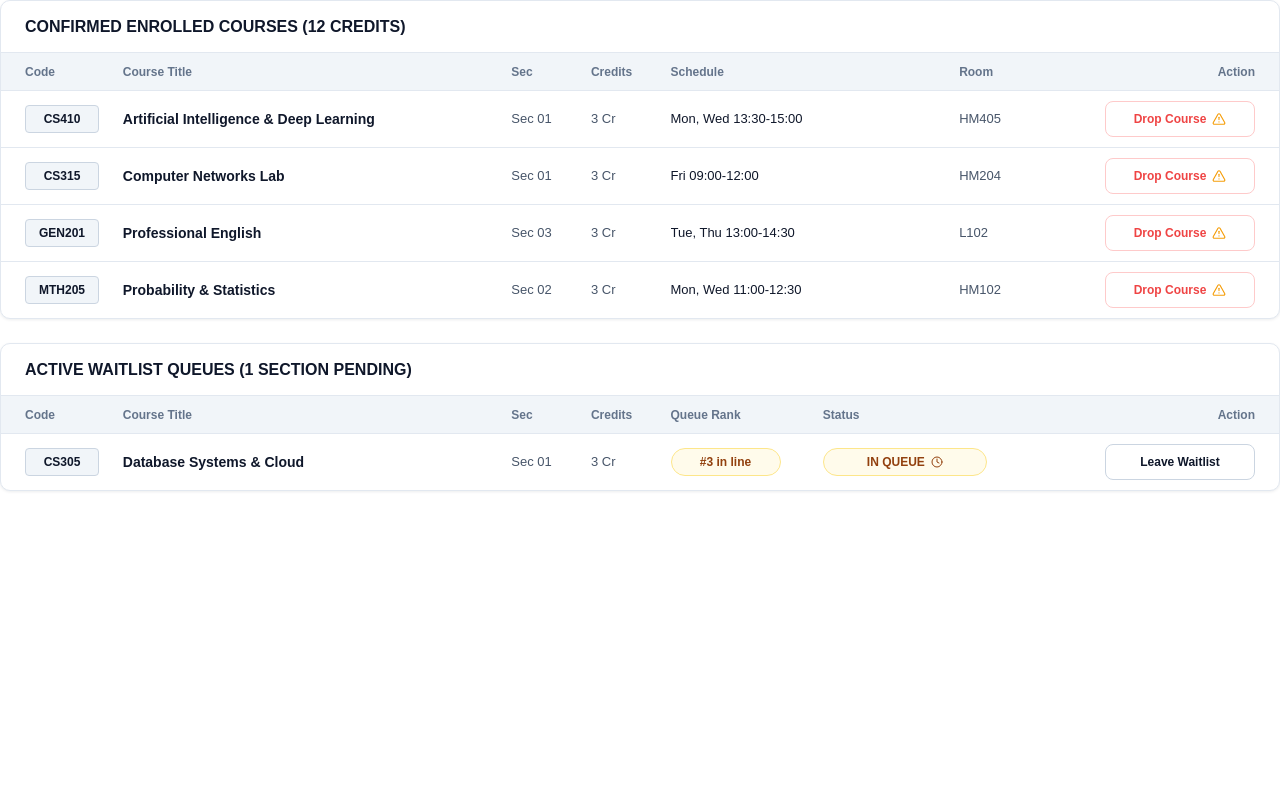
Test: RegisteredPage › leaves the waitlist after confirming
Step 1. Click the button "Leave Waitlist" → click(1180, 462), box [1105,444,1255,480]
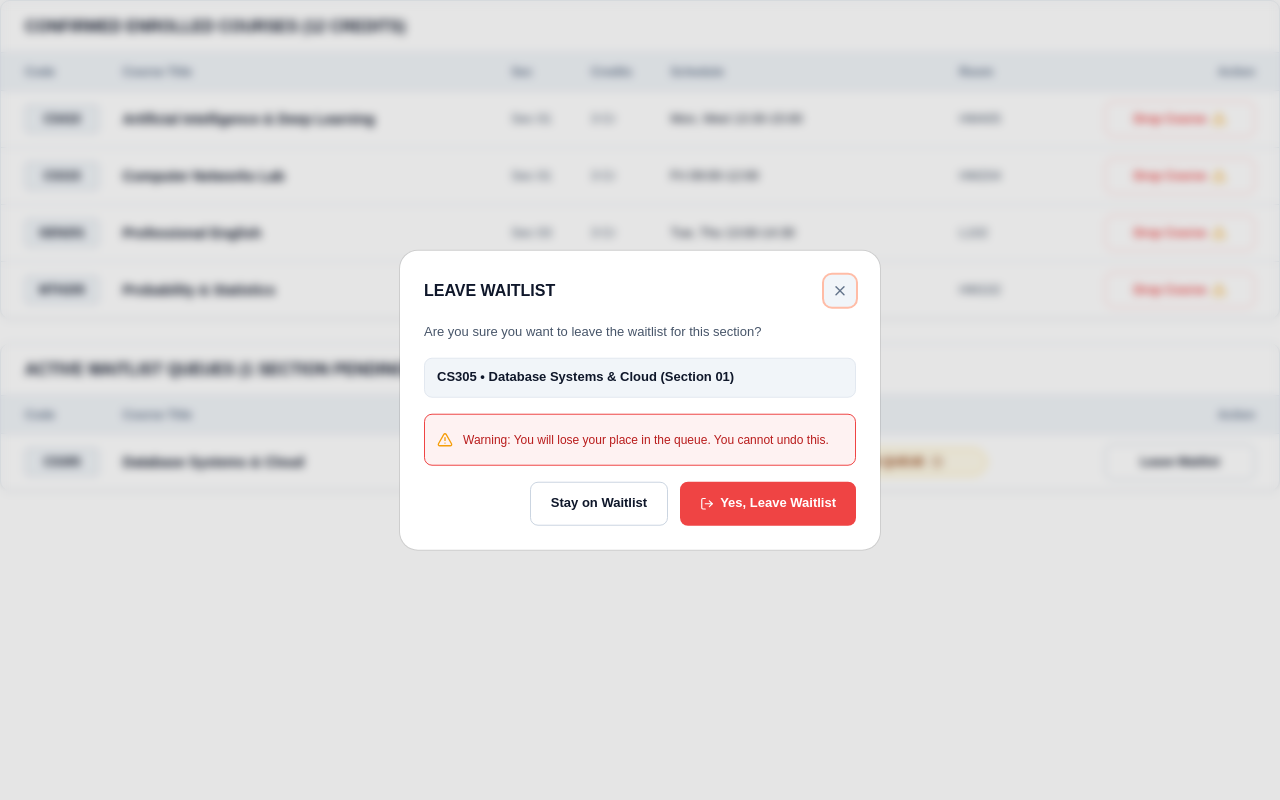
Step 2. Click the button "Yes, Leave Waitlist" → click(768, 503), box [680,481,856,525]
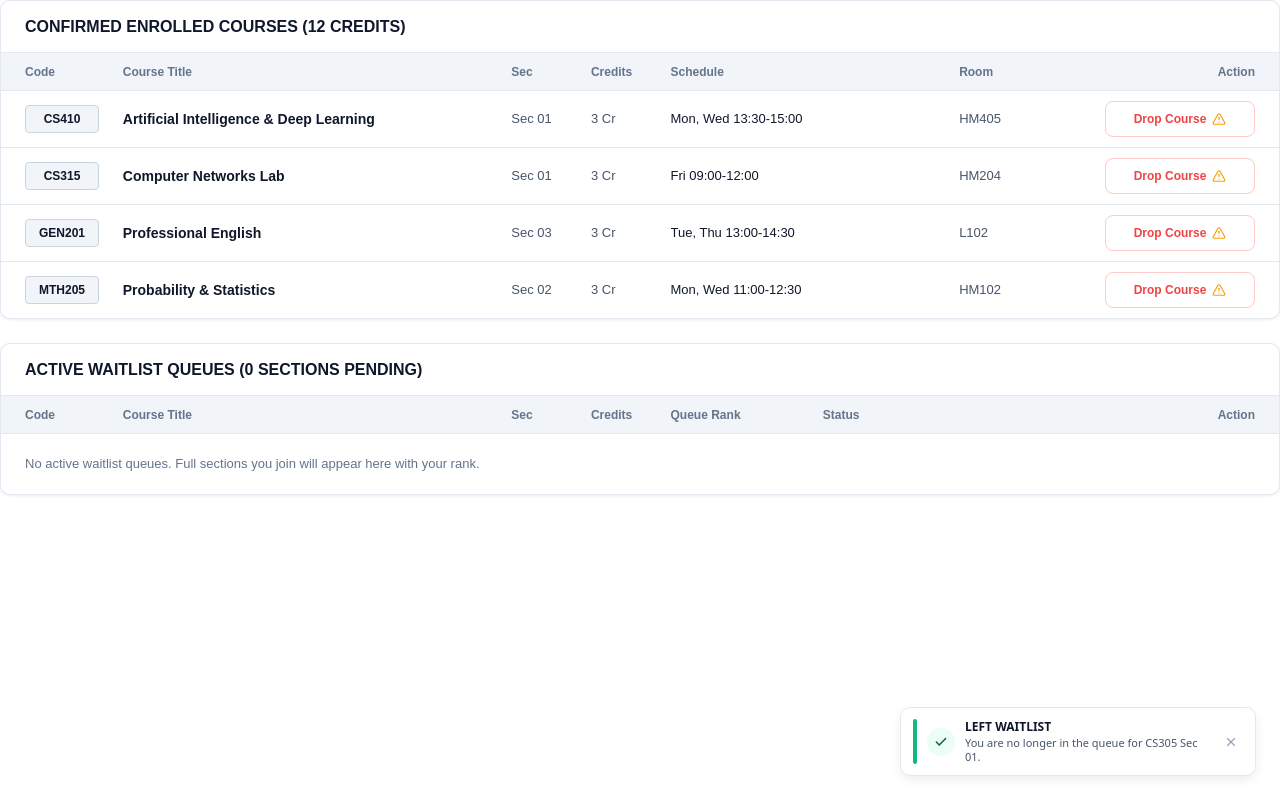
Check: the text "No active waitlist queues" is shown, box [25,456,480,471]
